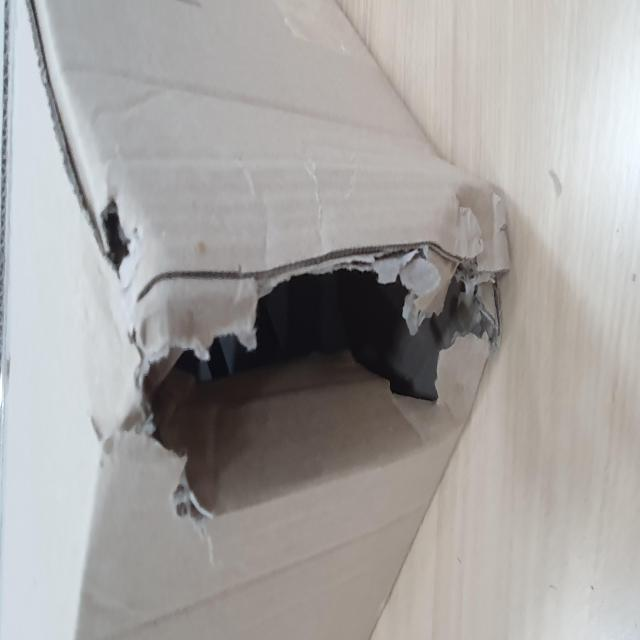damaged: (60, 168, 276, 640)
